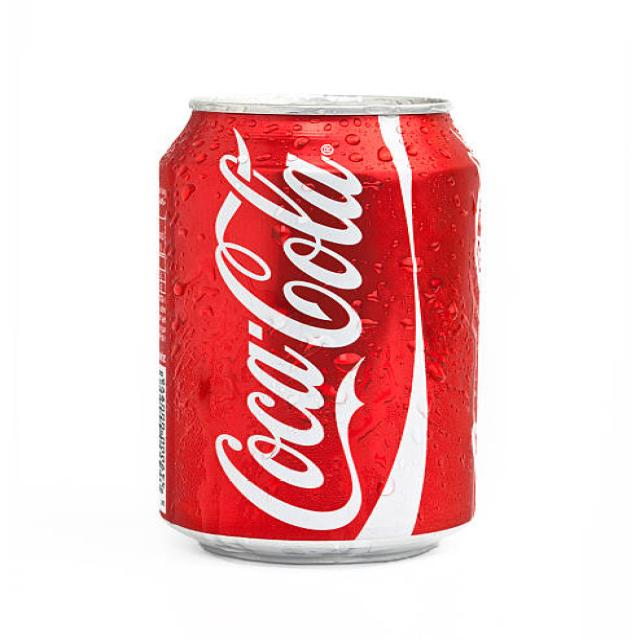aluminum_can: (159, 95, 478, 564)
